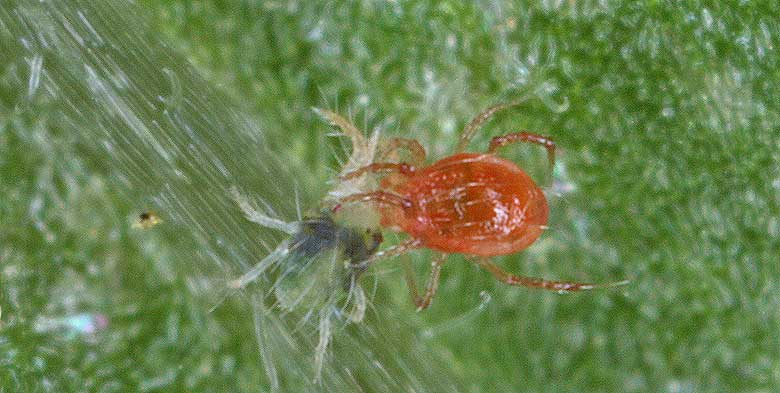Mites: (366, 119, 608, 308), (232, 150, 376, 366)
